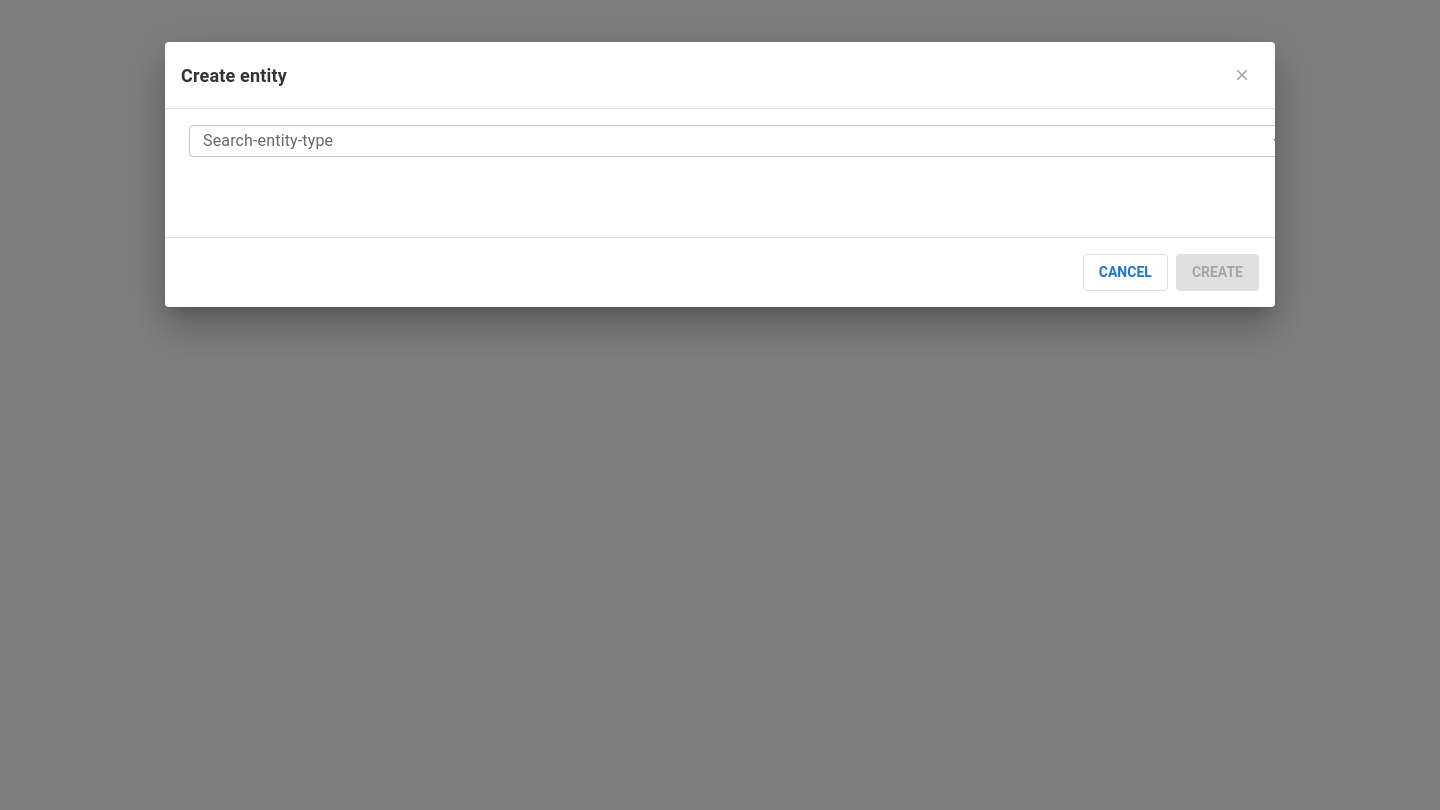
Test case: EntityForm - 100% Coverage › Entity Type Selection › hides enumchecking when not listed in session config (negative)
Press the mouse on the dropdown labelled "Search-entity-type" at (730, 141), box [193,127,1267,155]
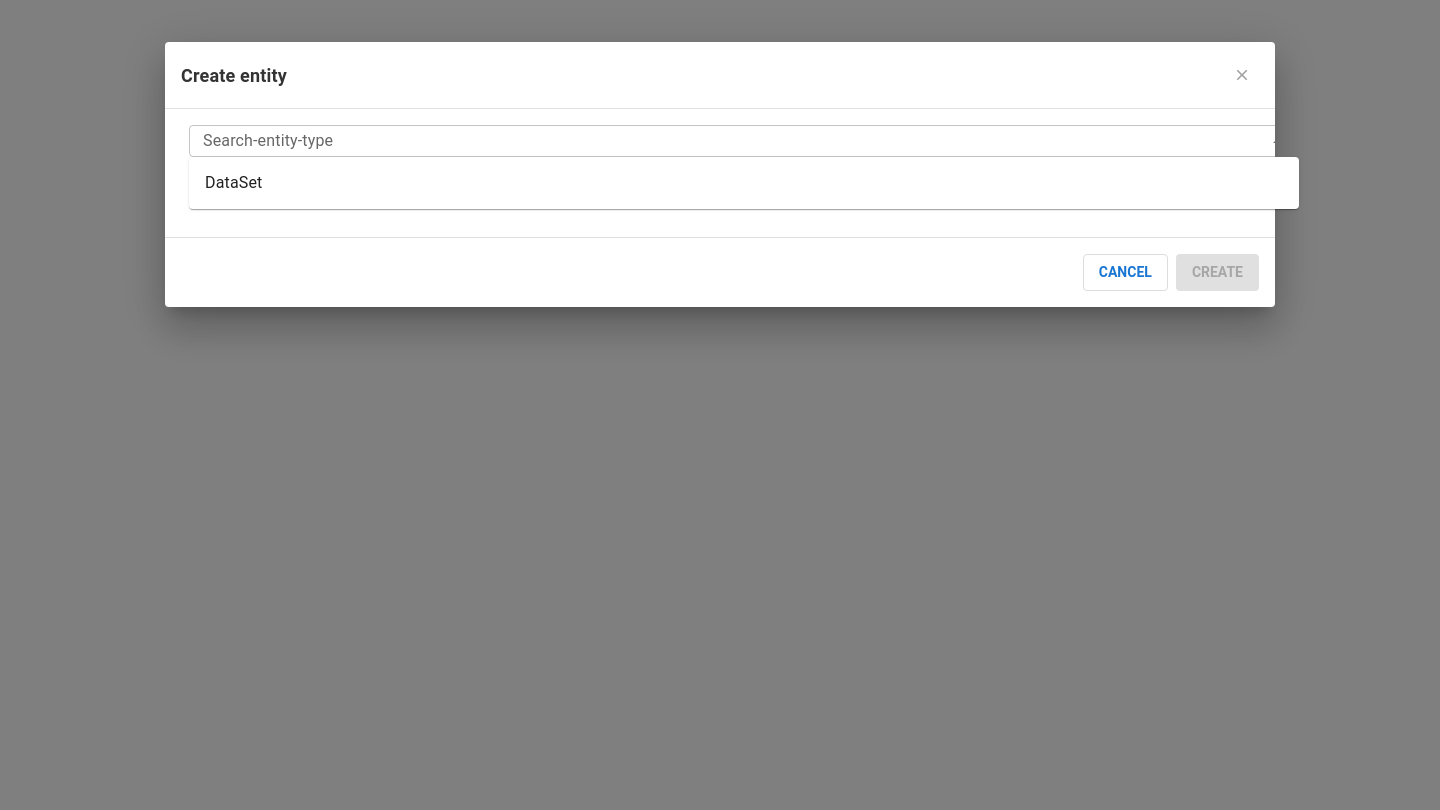
Expected: the option "DataSet" is shown, [205,173,262,192]
